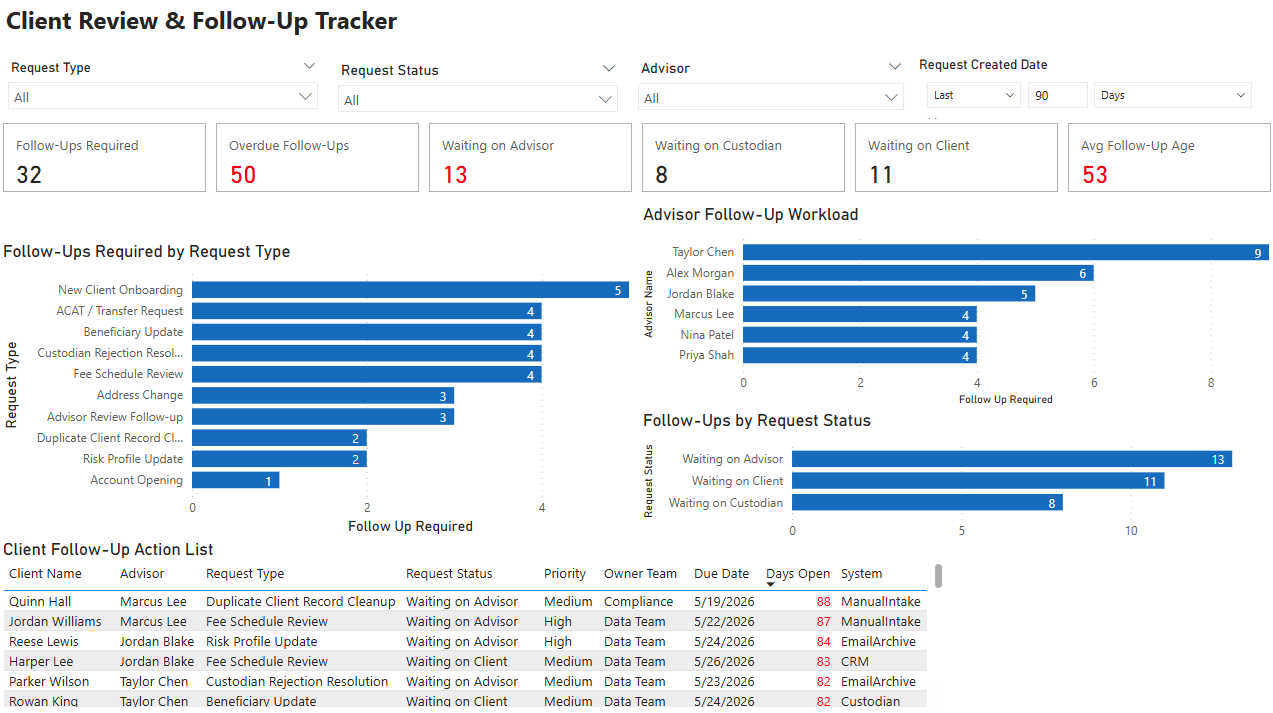

The dashboard page shown, as its layout file describes it:
{"tool":"powerbi","page":{"name":"Client Review & Follow-Up Tracker","canvas":[1280,720],"ordinal":1},"visuals":[{"type":"cardVisual","fields":{"Data":["FactServiceRequests.Follow Up Required","FactServiceRequests.Total Overdue Requests","FactServiceRequests.Waiting on Advisor","FactServiceRequests.Waiting on Custodian","FactServiceRequests.Waiting on Client","FactServiceRequests.Avg Follow-Up Age"]},"box":[0,120,1280,79],"z":0},{"type":"barChart","title":"Advisor Follow-Up Workload","fields":{"Category":["DimAdvisor.AdvisorName"],"Y":["FactServiceRequests.Follow Up Required"]},"box":[640,206,640,206],"z":1000},{"type":"barChart","title":"Follow-Ups Required by Request Type","fields":{"Category":["DimRequestType.Request Type"],"Y":["FactServiceRequests.Follow Up Required"]},"box":[0,243,640,298],"z":2000},{"type":"tableEx","title":"Client Follow-Up Action List","fields":{"Values":["DimClient.Client Name","DimAdvisor.AdvisorName","DimRequestType.Request Type","FactServiceRequests.Request Status","FactServiceRequests.Priority","FactServiceRequests.Owner Team","FactServiceRequests.Due Date Display","Sum(FactServiceRequests.Total Days Open)","FactServiceRequests.SourceSystem"]},"box":[0,541,950,173],"z":3000},{"type":"slicer","title":"Request Created Date","fields":{"Values":["FactServiceRequests.Created Date"]},"box":[916,59,352,62],"z":4000},{"type":"slicer","fields":{"Values":["DimAdvisor.Advisor Name"]},"box":[630,57,286,59],"z":5000},{"type":"slicer","fields":{"Values":["DimRequestType.Request Type"]},"box":[0,57,330,63],"z":6000},{"type":"slicer","fields":{"Values":["FactServiceRequests.Request Status"]},"box":[330,59,300,59],"z":7000},{"type":"barChart","title":"Follow-Ups by Request Status","fields":{"Y":["FactServiceRequests.Follow Up Required"],"Category":["FactServiceRequests.Request Status"]},"box":[640,412,640,139],"z":8000},{"type":"textbox","box":[3,0,770,48],"z":9000}]}

Visuals, with their boxes in screenshot pixels (x1, y1, x2, y2), scaled from the page's 1280x720 canvas onto the 1273x713 screenshot:
cardVisual - FactServiceRequests.Follow Up Required x FactServiceRequests.Total Overdue Requests: bbox=(0, 119, 1272, 197)
"Advisor Follow-Up Workload" barChart: bbox=(636, 204, 1272, 408)
"Follow-Ups Required by Request Type" barChart: bbox=(0, 241, 636, 536)
"Client Follow-Up Action List" tableEx: bbox=(0, 536, 945, 707)
"Request Created Date" slicer: bbox=(911, 58, 1261, 120)
slicer - DimAdvisor.Advisor Name: bbox=(627, 56, 911, 115)
slicer - DimRequestType.Request Type: bbox=(0, 56, 328, 119)
slicer - FactServiceRequests.Request Status: bbox=(328, 58, 627, 117)
"Follow-Ups by Request Status" barChart: bbox=(636, 408, 1272, 546)
textbox: bbox=(3, 0, 769, 48)
